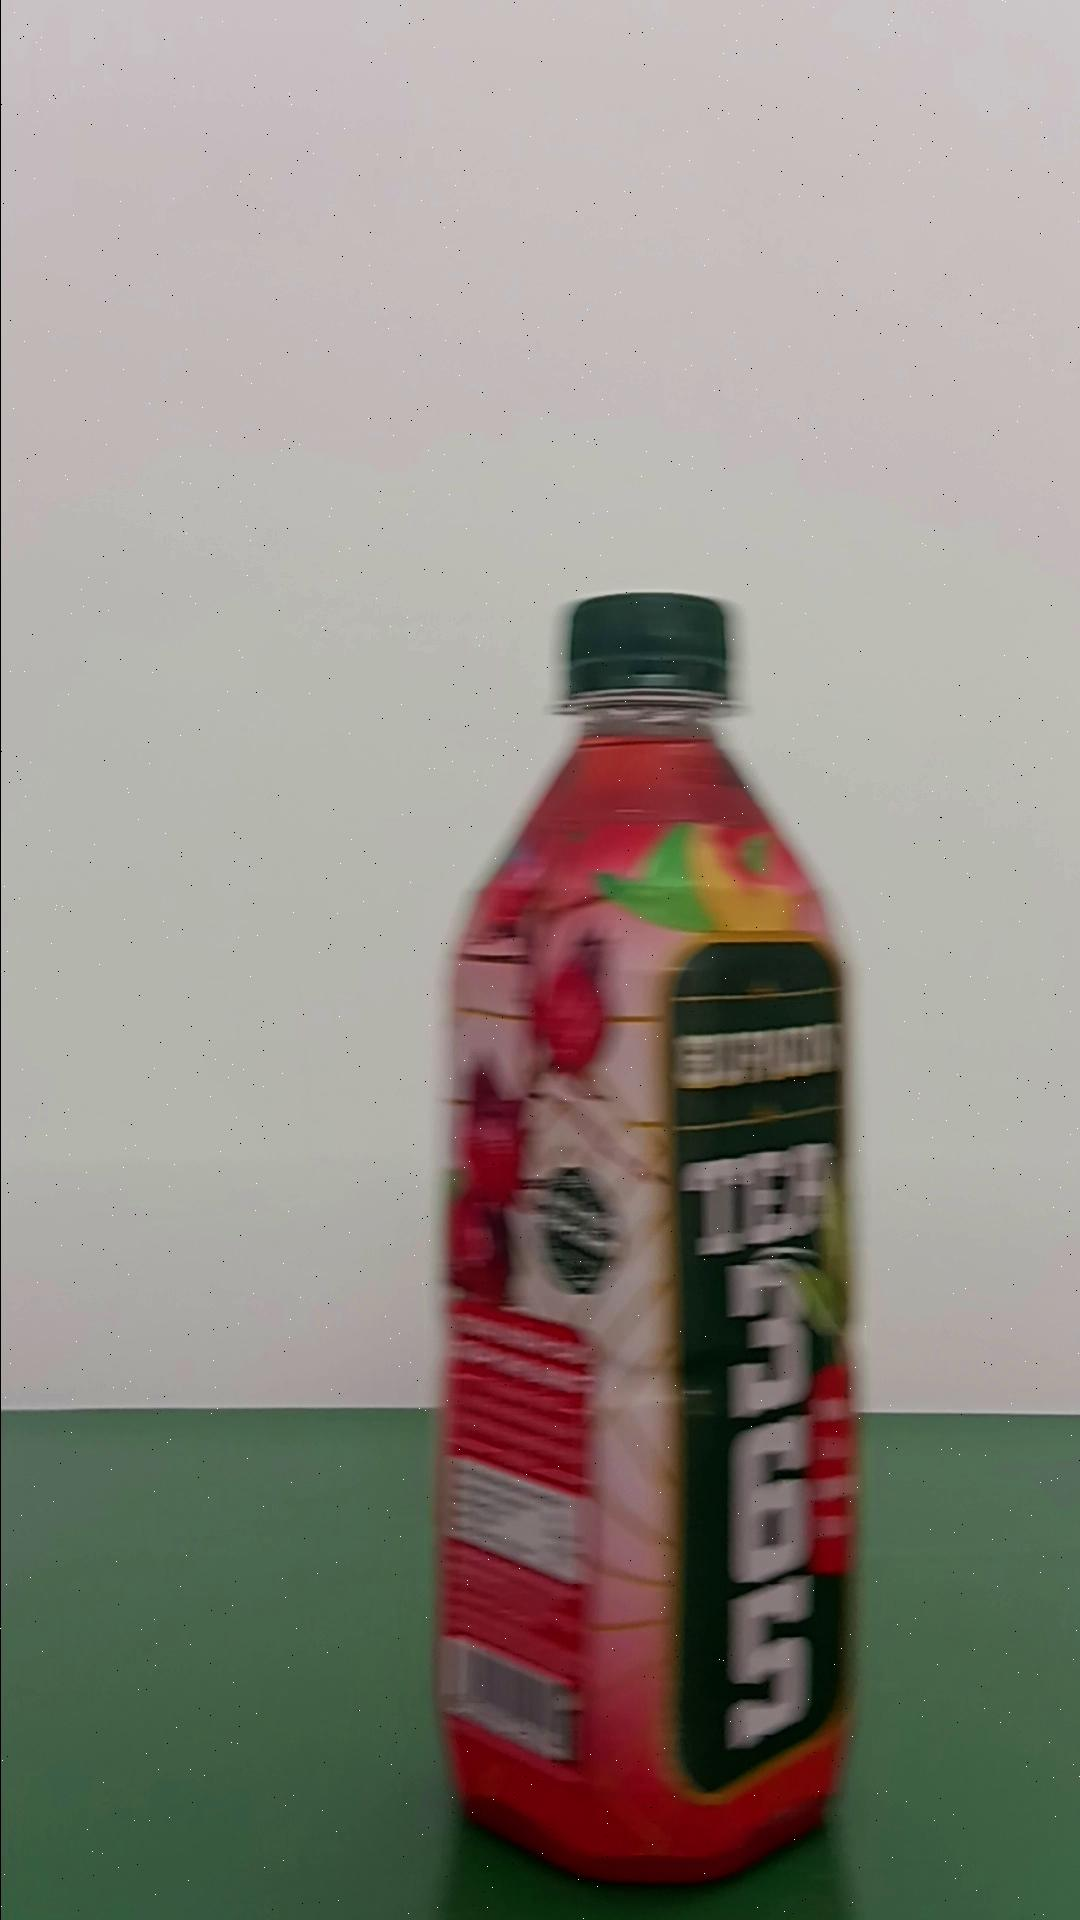khong loi: (429, 588, 862, 1884)
